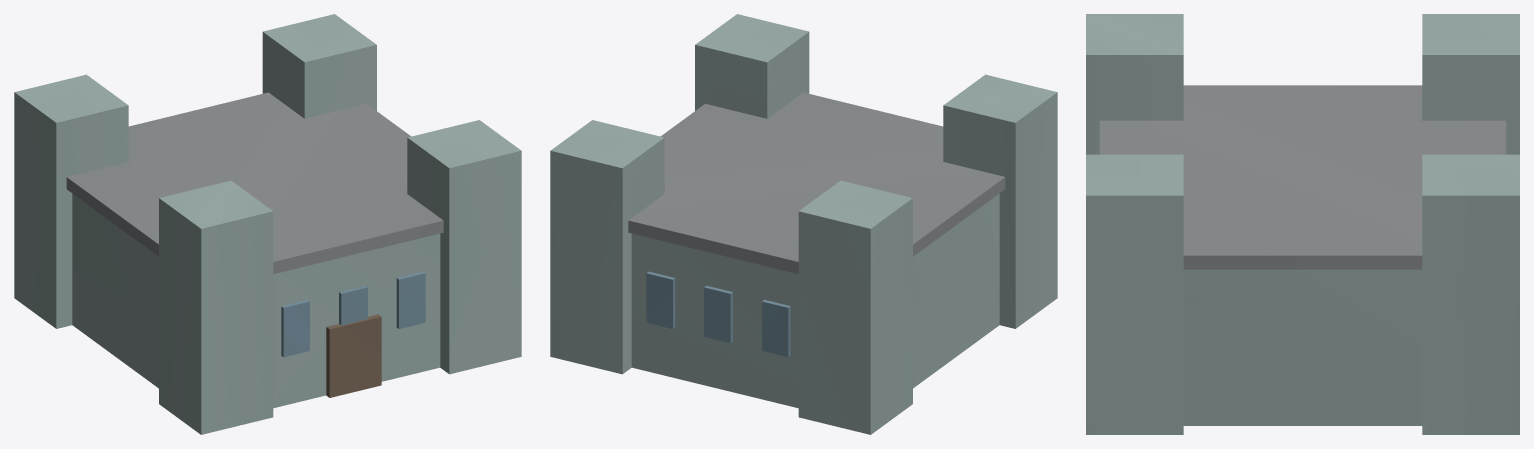
Rendered from fort-00.glb.
The picture shows the model from 3 angles, left to right: view 1: azimuth 30°, elevation 25°; view 2: azimuth 150°, elevation 25°; view 3: azimuth 270°, elevation 25°; orthographic projection. The views are drawn at different scales.
Parts seen in each view (by area): view 1: world; view 2: world; view 3: world.
Boxes of the visible parts, box(x1,y1,x2,y2) form: world: box(14, 14, 521, 434); world: box(550, 14, 1057, 434); world: box(1086, 14, 1519, 434).
Bounding box in the file's own units: 1.93 × 1.18 × 1.94.
